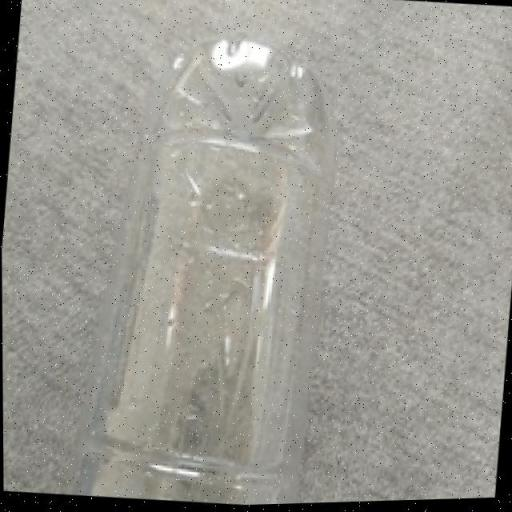plastic: (65, 18, 365, 511)
